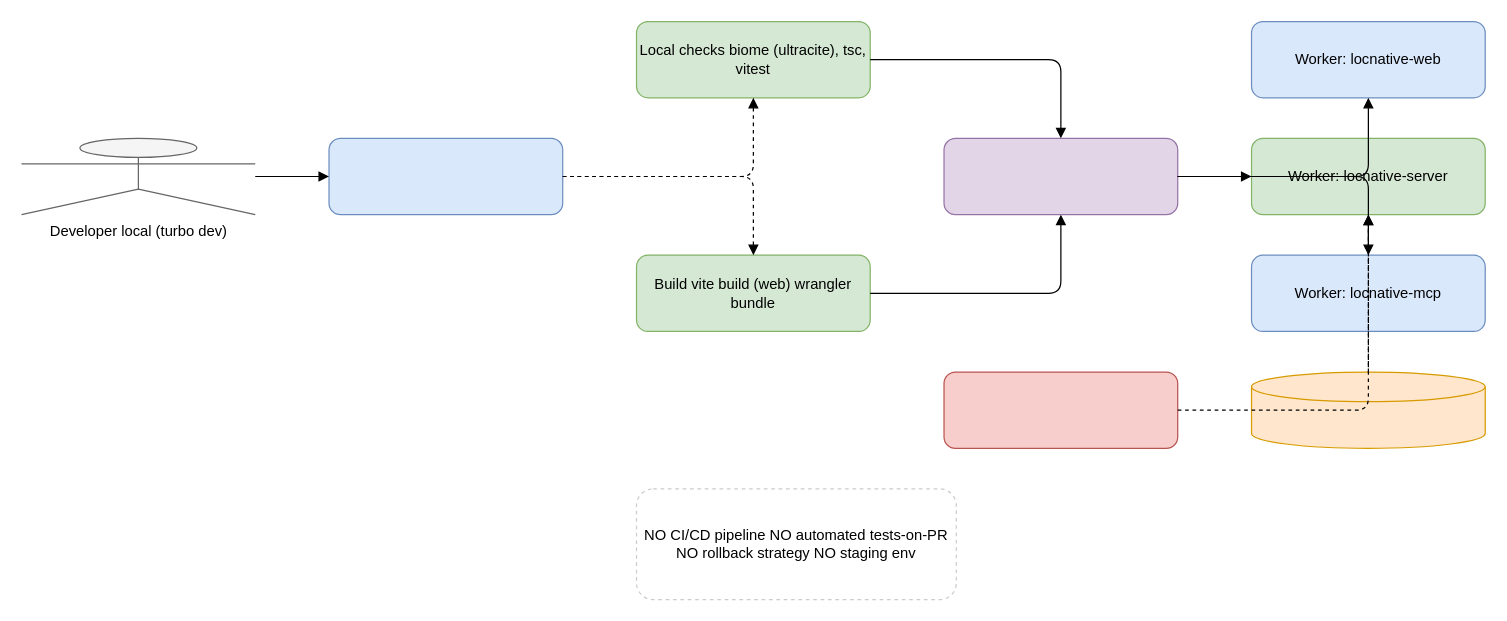
This 1507x621 diagram has some shape labels left out. Here are the shapes that lost their labels. From the top down, the centre of each, then its label:
At [445,176]: "git / GitHub branch + PR + merge".
At [1060,176]: "Manual deploy turbo deploy (wrangler deploy)".
At [1060,409]: "Secrets (manual) wrangler secret put (~11 server secrets)".
At [1367,409]: "DB migrations drizzle-kit (manual, out-of-band)".
